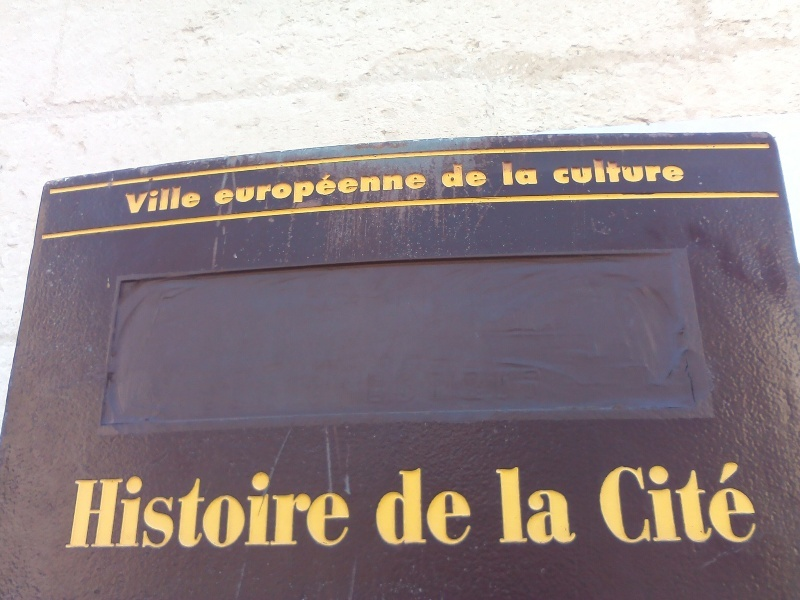text: (385, 463, 400, 552), (401, 463, 416, 552), (417, 463, 432, 552), (433, 463, 448, 552), (449, 463, 464, 552), (609, 458, 624, 546), (625, 458, 640, 546), (641, 458, 656, 546), (657, 458, 672, 546), (673, 458, 688, 546), (689, 458, 704, 546), (705, 458, 720, 546), (721, 458, 736, 546), (737, 458, 752, 546), (497, 461, 512, 545), (513, 461, 528, 545), (529, 461, 544, 545), (545, 461, 560, 545), (561, 461, 576, 545), (81, 471, 96, 552), (97, 471, 112, 552), (113, 471, 128, 552), (129, 471, 144, 552), (145, 471, 160, 552), (161, 471, 176, 552), (177, 471, 192, 552), (193, 471, 208, 552), (209, 471, 224, 552), (225, 471, 240, 552), (241, 471, 256, 552), (257, 471, 272, 552), (273, 471, 288, 552), (289, 471, 304, 552), (305, 471, 320, 552), (321, 471, 336, 552), (337, 471, 352, 552), (595, 458, 608, 546), (465, 463, 476, 552), (753, 458, 764, 546), (376, 463, 384, 552), (225, 166, 240, 210), (241, 166, 256, 210), (257, 166, 272, 210), (273, 166, 288, 210), (289, 166, 304, 210), (305, 166, 320, 210), (321, 166, 336, 210), (337, 166, 352, 210), (353, 166, 368, 210), (369, 166, 384, 210), (385, 166, 400, 210), (401, 166, 416, 210), (73, 471, 80, 552), (129, 183, 144, 217), (145, 183, 160, 217), (161, 183, 176, 217), (177, 183, 192, 217), (449, 162, 464, 192), (465, 162, 480, 192), (561, 156, 576, 186), (577, 156, 592, 186), (593, 156, 608, 186), (609, 156, 624, 186), (625, 156, 640, 186), (641, 156, 656, 186), (657, 156, 672, 186), (214, 166, 224, 210), (417, 166, 427, 210), (513, 161, 528, 187), (673, 156, 686, 186), (193, 183, 203, 217), (501, 161, 512, 187), (529, 161, 540, 187), (353, 471, 356, 552), (440, 162, 448, 192), (481, 162, 488, 192), (554, 156, 560, 186), (494, 461, 496, 545), (124, 183, 128, 217), (577, 461, 578, 545)
